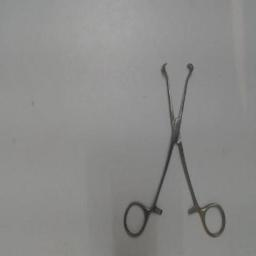Babcock Tissue Forceps: (120, 56, 232, 242)
